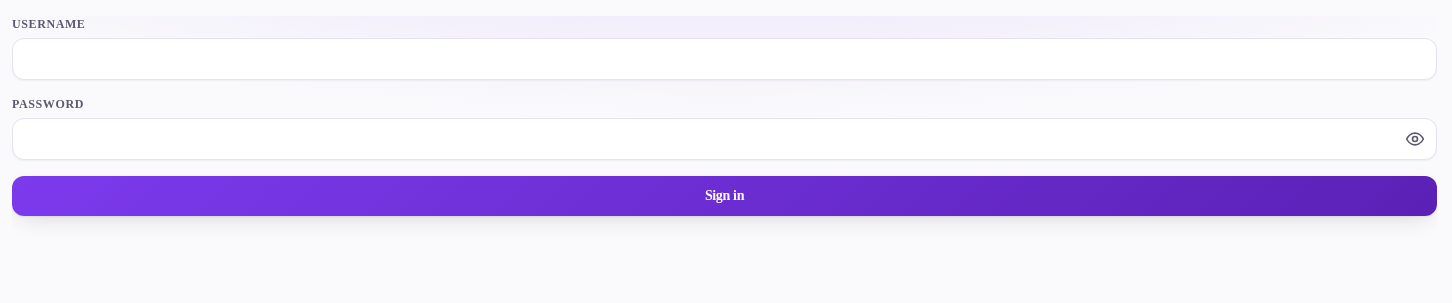
Test case: LoginForm › shows the invalid-credentials message on a 401
Type "  admin  " into the field labelled "Username" at (724, 59), box [12,38,1437,80]
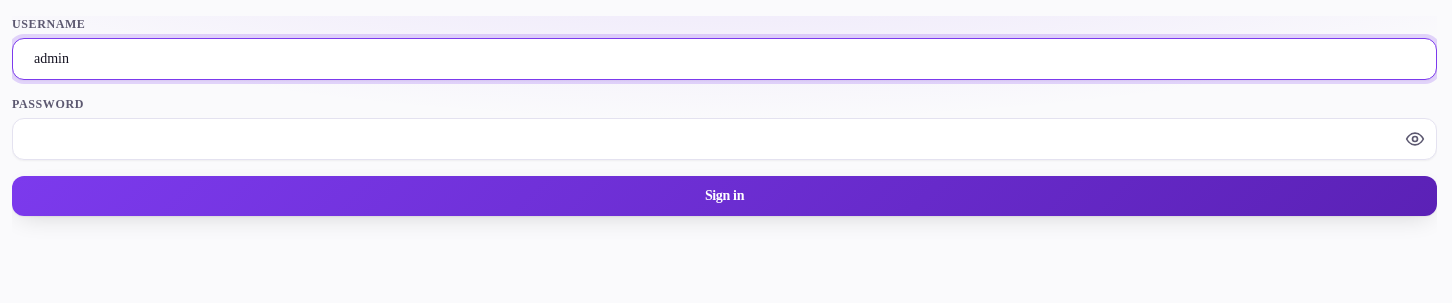
Type "secret12" into the password field labelled "Password" at (724, 139), box [12,118,1437,160]
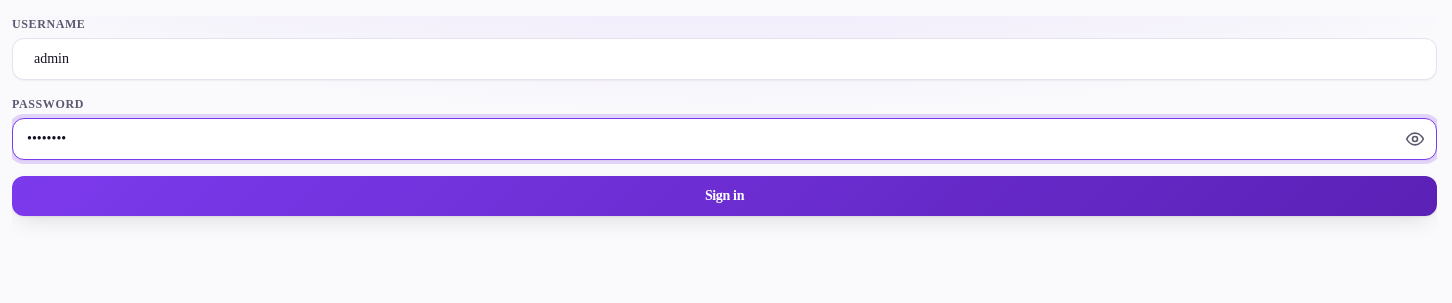
Click the button "Sign in" at (724, 196), box [12,176,1437,216]
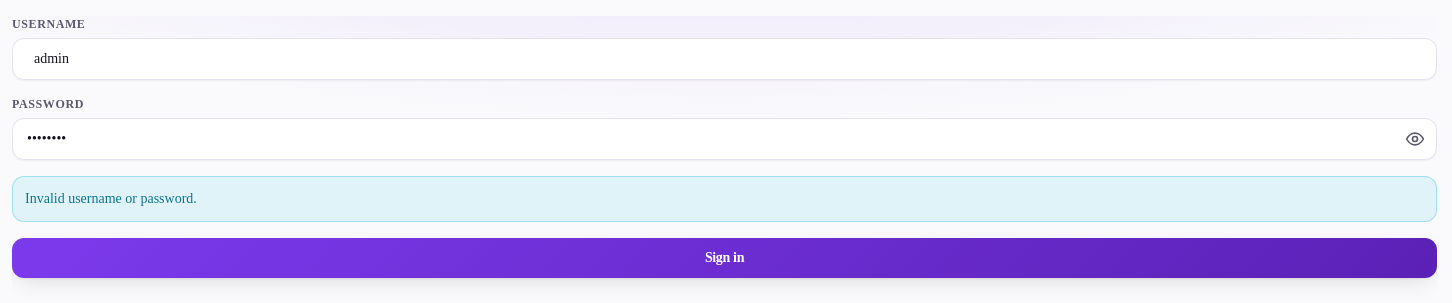
Check: the message shows "Invalid username or password", box [25,191,197,206]
